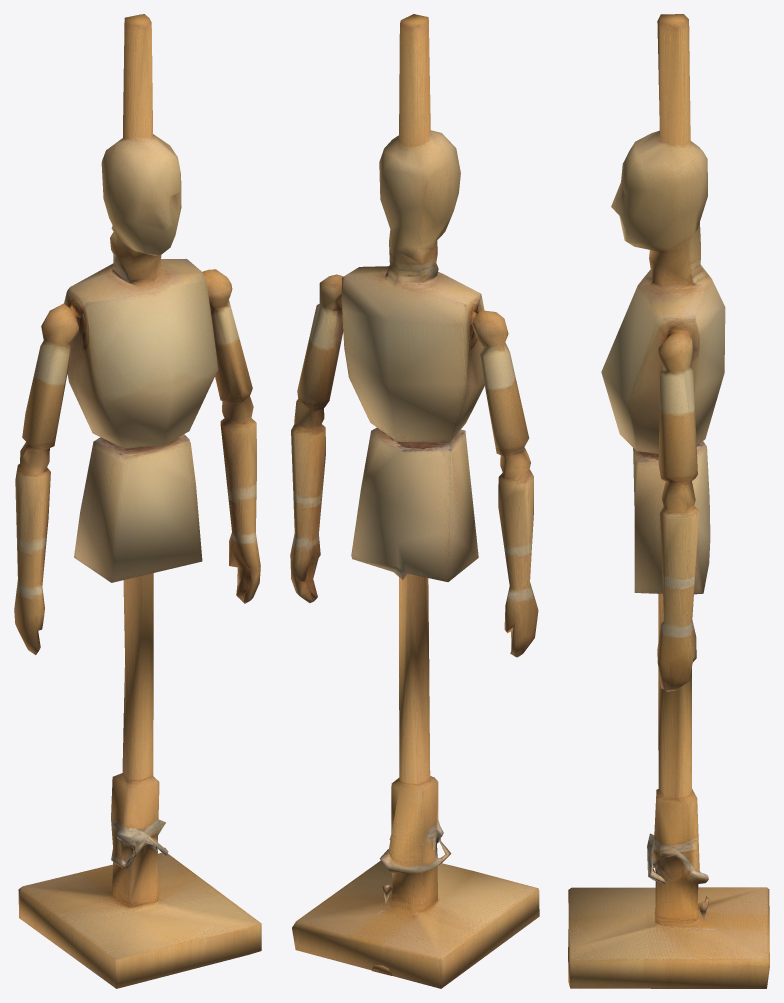
The model's file is sword_dummy.glb.
3 renders of one model, left to right at view 1: azimuth 30°, elevation 25°; view 2: azimuth 150°, elevation 25°; view 3: azimuth 270°, elevation 25°, orthographic. The views are drawn at different scales.
Size of the model in its own units: 0.5433 by 2 by 0.3902.
Materials: 1 (1 with a texture image).
